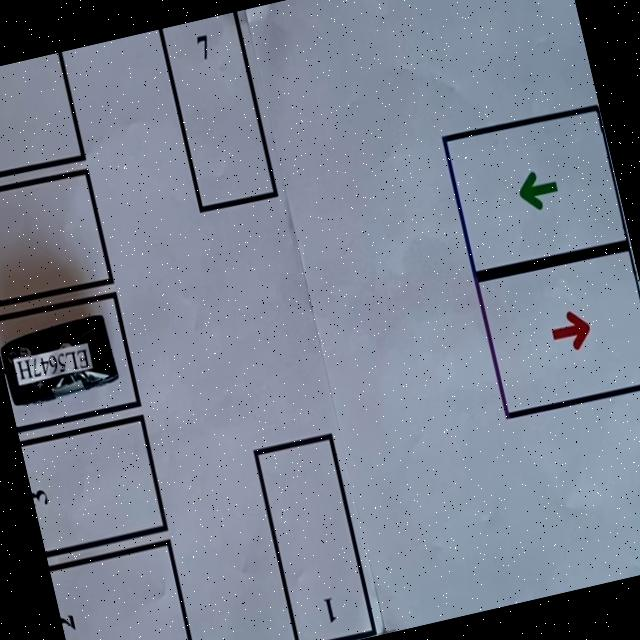car: (0, 310, 123, 409)
